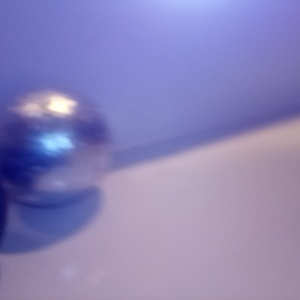alive_ball: (1, 86, 111, 207)
dead_ball: (1, 185, 6, 237)
